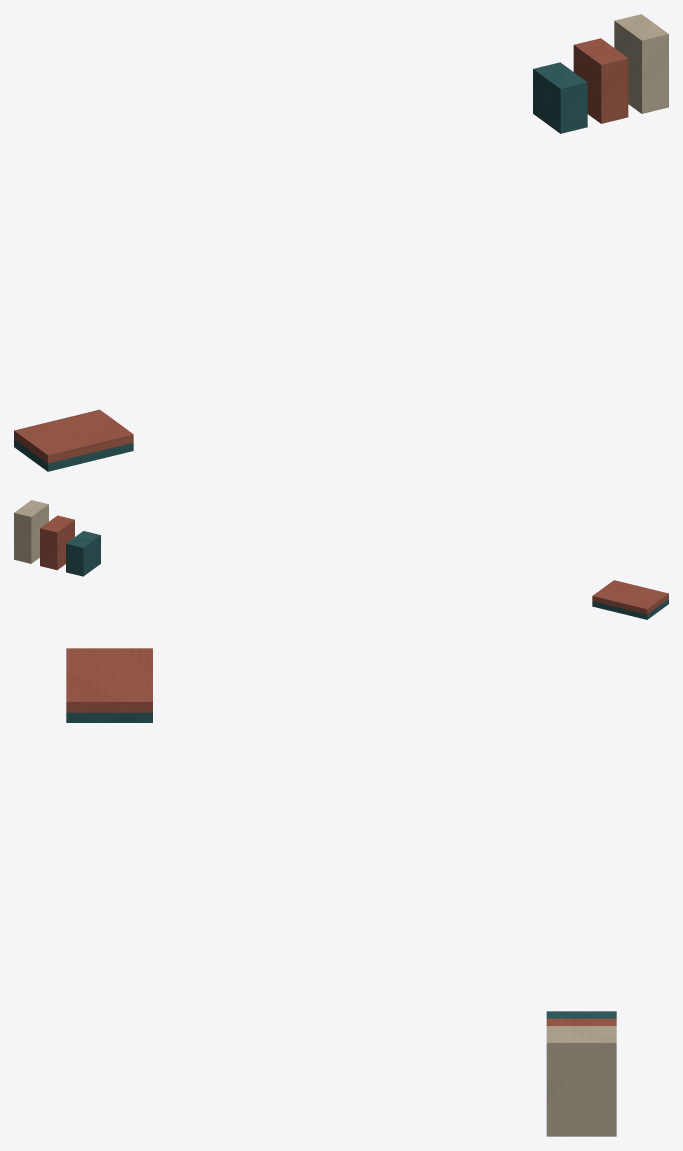
The model's file is detail_props.glb.
The picture shows the model from 3 angles, top to bottom: view 1: azimuth 30°, elevation 25°; view 2: azimuth 150°, elevation 25°; view 3: azimuth 270°, elevation 25°; orthographic projection. The views are drawn at different scales.
Parts seen in each view (by area): view 1: SUI_DeskBook_2, SUI_TableBook_1, SUI_DeskBook_1, SUI_DeskBook_0, SUI_TableBook_0; view 2: SUI_DeskBook_2, SUI_TableBook_1, SUI_DeskBook_1, SUI_DeskBook_0, SUI_TableBook_0; view 3: SUI_DeskBook_2, SUI_TableBook_1, SUI_TableBook_0.
Boxes of the visible parts, x1,y1,x2,y2 form: SUI_DeskBook_2: (614, 14, 668, 113); SUI_TableBook_1: (14, 409, 133, 463); SUI_DeskBook_1: (573, 38, 628, 123); SUI_DeskBook_0: (533, 62, 587, 133); SUI_TableBook_0: (14, 439, 133, 471); SUI_DeskBook_2: (14, 500, 48, 563); SUI_TableBook_1: (592, 580, 668, 614); SUI_DeskBook_1: (40, 515, 74, 570); SUI_DeskBook_0: (66, 531, 100, 576); SUI_TableBook_0: (592, 599, 668, 619); SUI_DeskBook_2: (546, 1026, 616, 1136); SUI_TableBook_1: (66, 648, 152, 712); SUI_TableBook_0: (66, 712, 152, 722).
Bounding box in the file's own units: 3.58 × 0.435 × 1.65.
3 materials, 3 textured.
